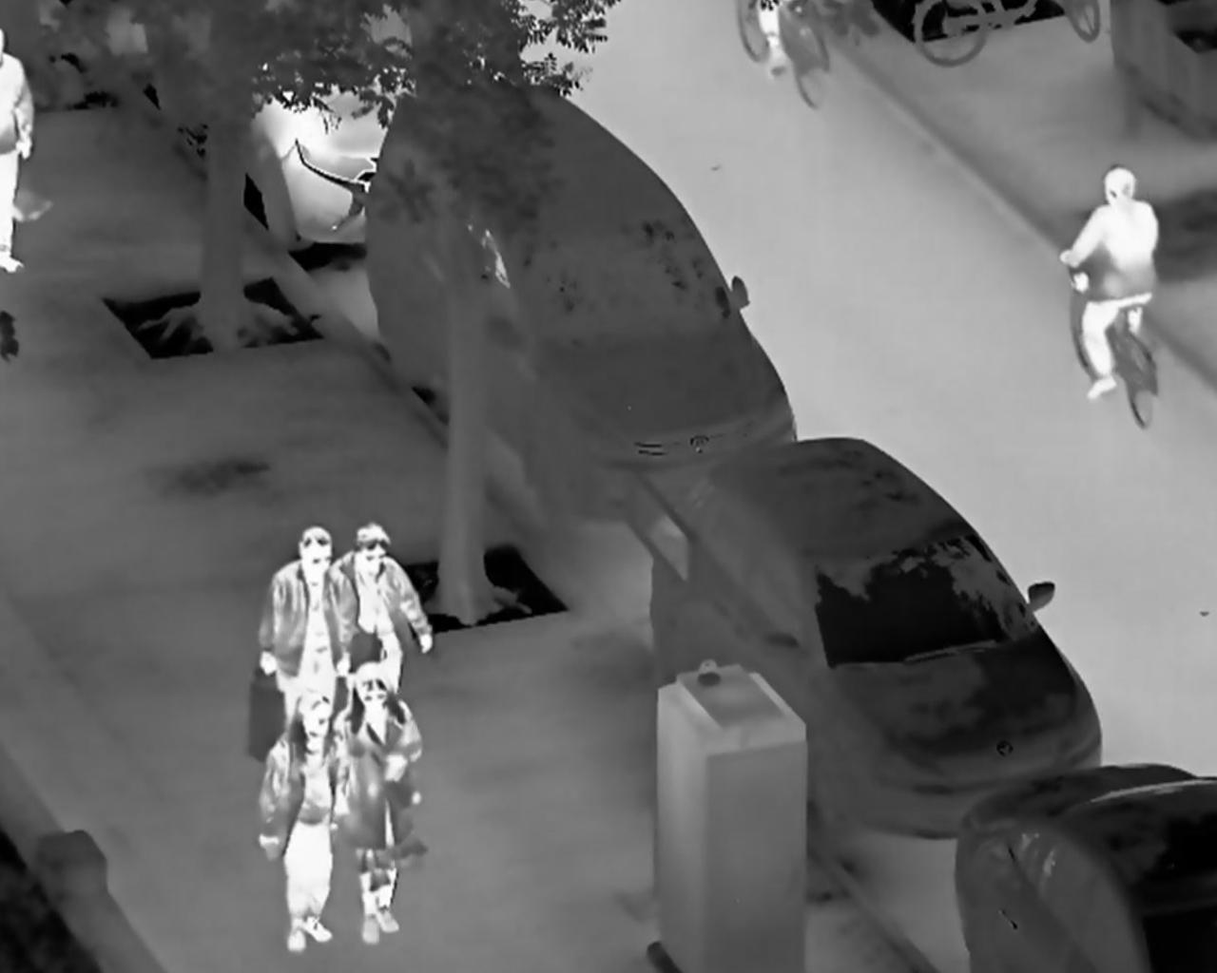person: (337, 659, 425, 949), (1056, 162, 1158, 403), (257, 690, 344, 954), (261, 525, 359, 737), (339, 522, 435, 721)
